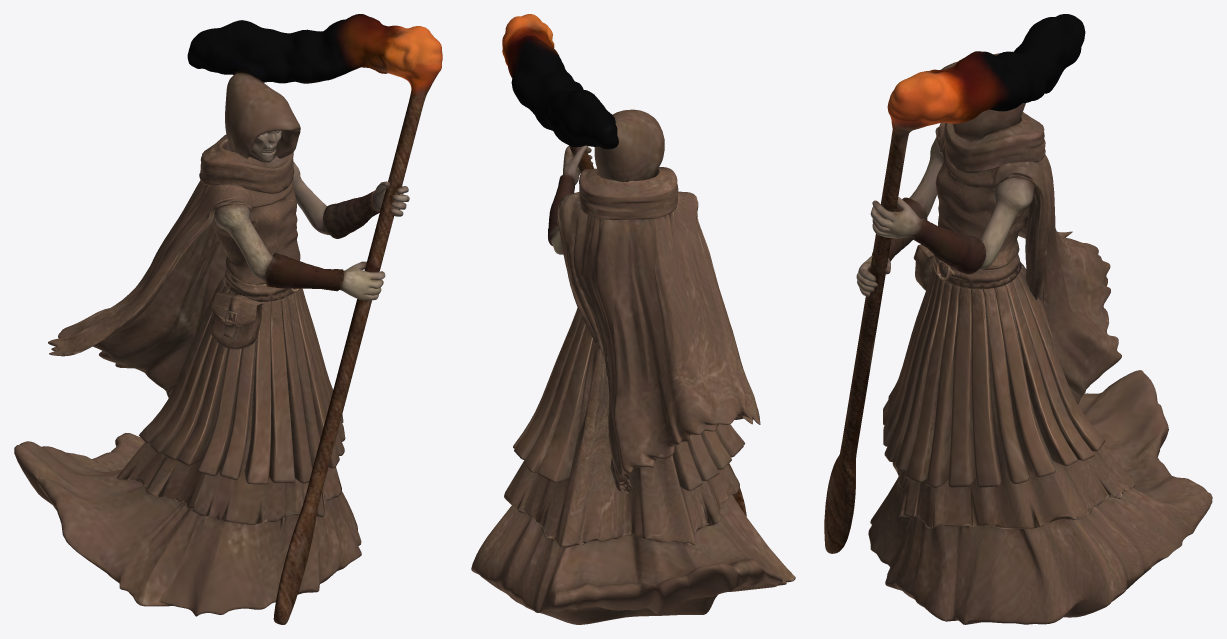
File: MZ4250 - Merrenoloth.glb
The picture shows the model from 3 angles, left to right: view 1: azimuth 30°, elevation 25°; view 2: azimuth 150°, elevation 25°; view 3: azimuth 270°, elevation 25°; orthographic projection. The views are drawn at different scales.
Visible parts, largest first — view 1: default; view 2: default; view 3: default.
Part boxes in pixels (x1,y1,x2,y2): default: (14, 14, 442, 624); default: (471, 14, 795, 624); default: (824, 14, 1212, 624).
Bounding box in the file's own units: 0.6849 × 1.07 × 0.6439.
1 material, 1 textured.
